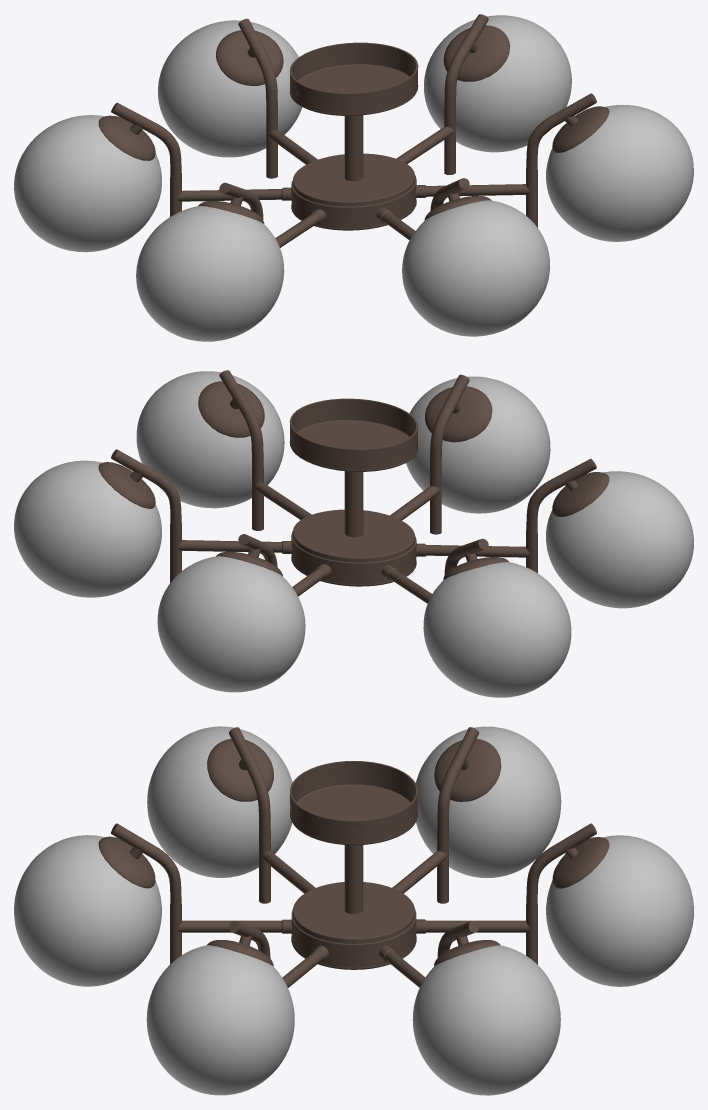
Rendered from abo-B07HKFRTVC.glb.
3 views of the same model, one above another, from view 1: azimuth 30°, elevation 25°; view 2: azimuth 150°, elevation 25°; view 3: azimuth 270°, elevation 25° (orthographic). The views are drawn at different scales.
Size of the model in its own units: 0.662 by 0.201 by 0.662.
1 material, 1 textured.
